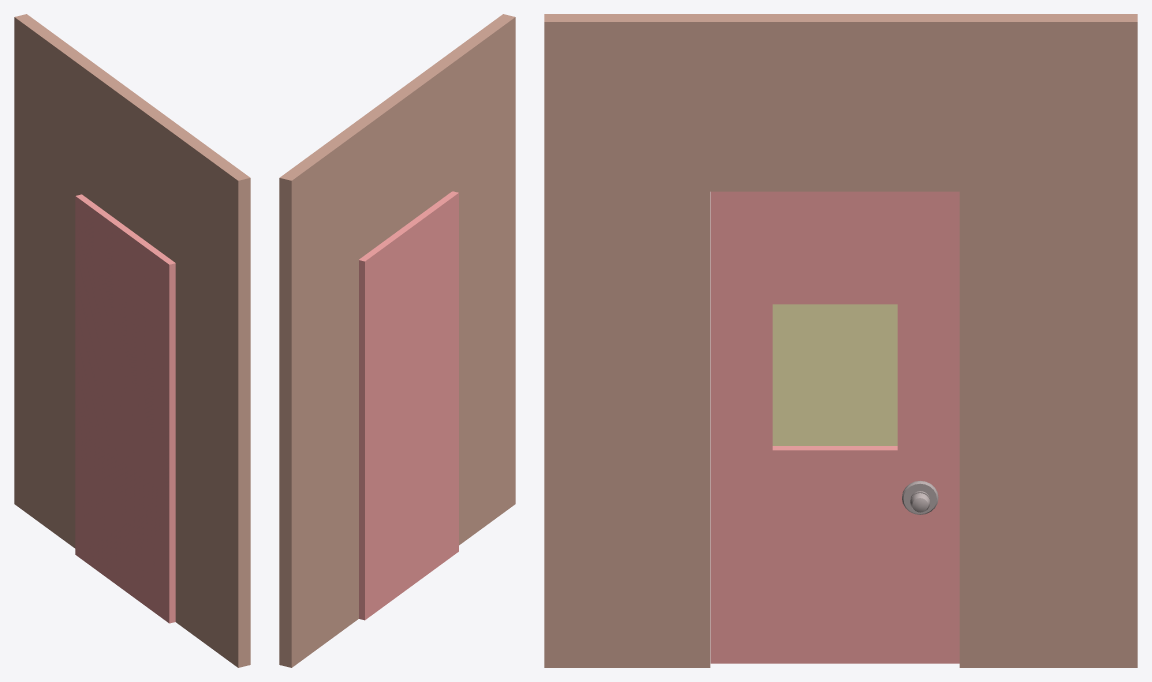
The model's file is wall_door.fbx.
3 views of the same model, side by side, from view 1: azimuth 30°, elevation 25°; view 2: azimuth 150°, elevation 25°; view 3: azimuth 270°, elevation 25° (orthographic). The views are drawn at different scales.
Parts seen in each view (by area): view 1: polySurface1, polySurface3; view 2: polySurface1, polySurface3; view 3: polySurface1, polySurface3.
Part boxes in pixels (bbox=[...]): polySurface1: bbox=[14, 14, 250, 667]; polySurface3: bbox=[75, 194, 175, 623]; polySurface1: bbox=[279, 14, 515, 667]; polySurface3: bbox=[359, 191, 458, 620]; polySurface1: bbox=[544, 14, 1137, 667]; polySurface3: bbox=[710, 191, 959, 663].
Size of the model in its own units: 0.8386 by 15 by 12.49.
